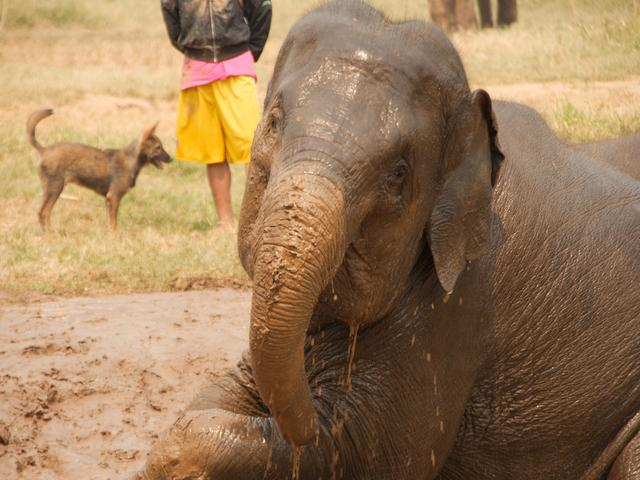dog: (18, 89, 186, 248)
elephant: (209, 9, 604, 468)
